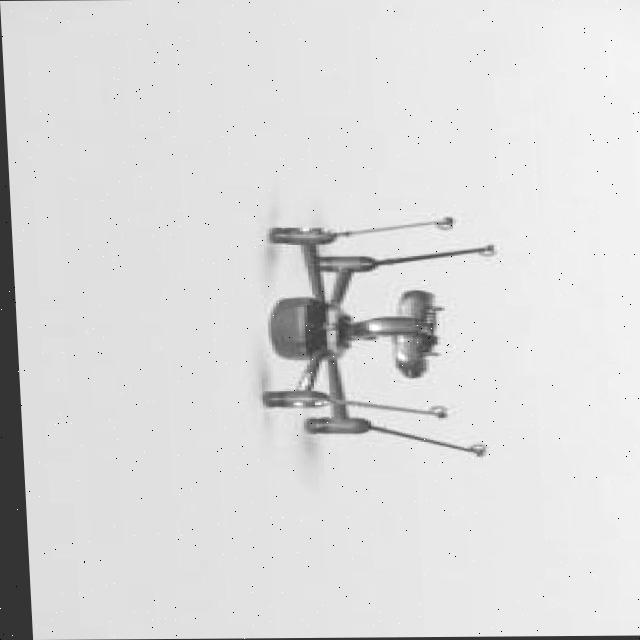drone: (218, 160, 418, 476)
